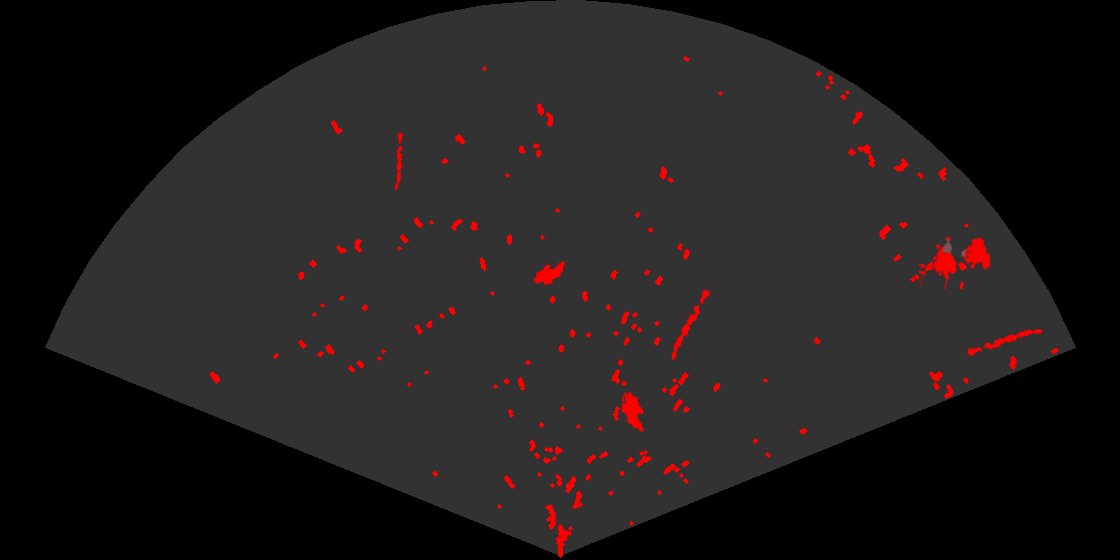AUV: (619, 390, 646, 434), (532, 260, 567, 287)
cage: (919, 234, 993, 289)
chain: (670, 280, 715, 362), (960, 327, 1044, 358), (393, 132, 405, 191)
